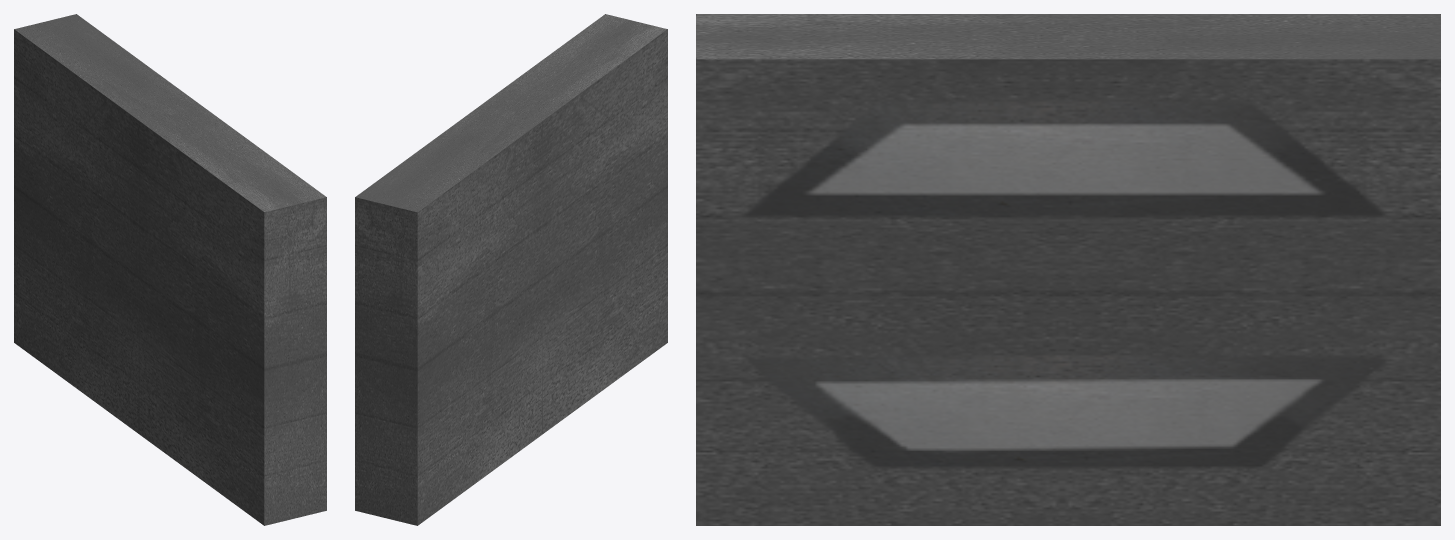
File: Wall.fbx
3 views of the same model, side by side, from view 1: azimuth 30°, elevation 25°; view 2: azimuth 150°, elevation 25°; view 3: azimuth 270°, elevation 25° (orthographic). The views are drawn at different scales.
Visible parts, largest first — view 1: Cube; view 2: Cube; view 3: Cube.
Part boxes in pixels (x1,y1,x2,y2): Cube: (14, 14, 326, 525); Cube: (355, 14, 667, 525); Cube: (696, 14, 1440, 525).
Bounding box in the file's own units: 94.66 × 454 × 657.
Materials: 1 (1 with a texture image).
